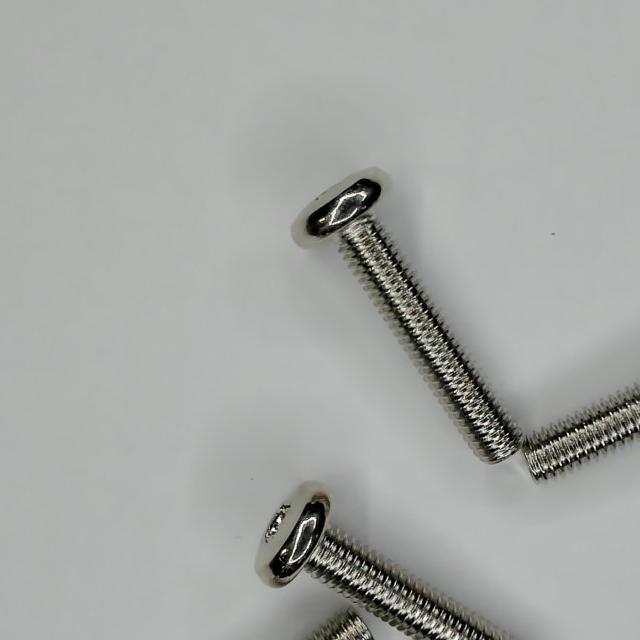Screw: (292, 167, 523, 464), (256, 484, 511, 640), (522, 386, 640, 480), (312, 612, 374, 640)
